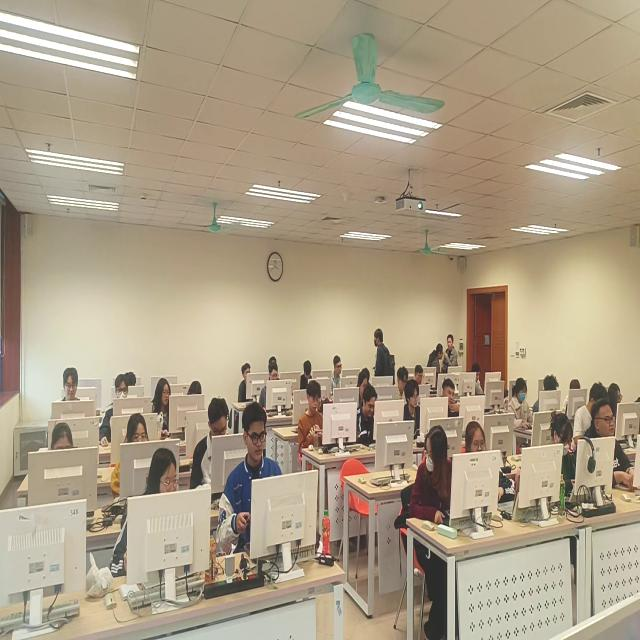raise_head: (585, 401, 638, 495), (239, 364, 252, 404), (270, 357, 278, 367)
stand: (374, 328, 397, 389), (428, 342, 445, 389), (443, 334, 460, 377)
using_computer: (217, 400, 284, 556), (111, 448, 179, 579), (191, 397, 232, 506), (466, 421, 516, 505), (111, 414, 149, 500), (573, 383, 609, 449), (551, 410, 577, 498), (100, 376, 129, 448), (299, 381, 324, 458), (509, 378, 535, 432), (151, 379, 173, 441), (358, 387, 378, 445), (534, 376, 562, 417), (404, 380, 421, 439), (260, 364, 280, 412), (443, 379, 460, 421), (563, 378, 582, 414), (62, 369, 82, 402), (52, 422, 75, 450), (331, 355, 344, 398), (609, 385, 624, 418), (396, 367, 409, 402), (472, 364, 485, 396), (301, 361, 313, 392), (358, 371, 369, 399), (415, 364, 425, 387), (188, 380, 202, 395), (127, 371, 138, 388), (364, 368, 371, 383)
